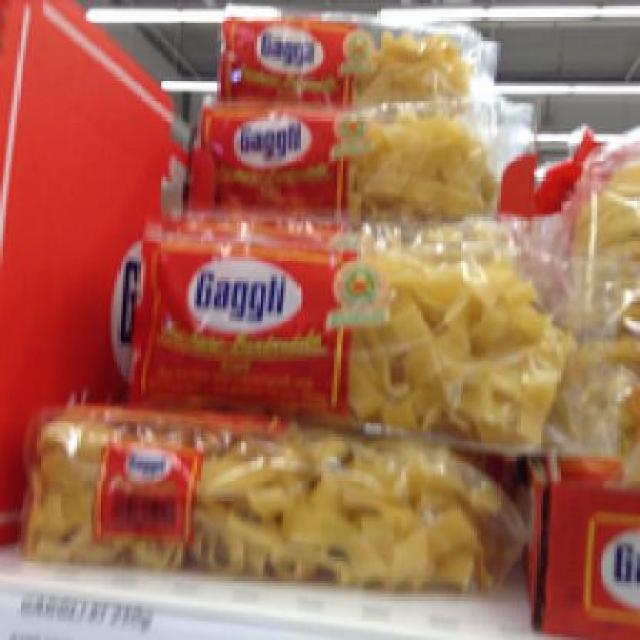Pasta: (123, 214, 612, 457), (20, 400, 506, 589), (197, 97, 512, 214)
